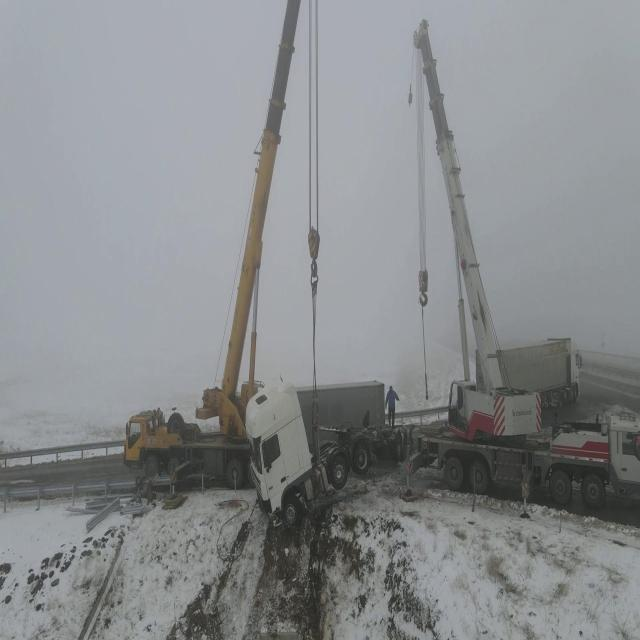crane: (405, 18, 640, 520), (123, 0, 323, 504)
